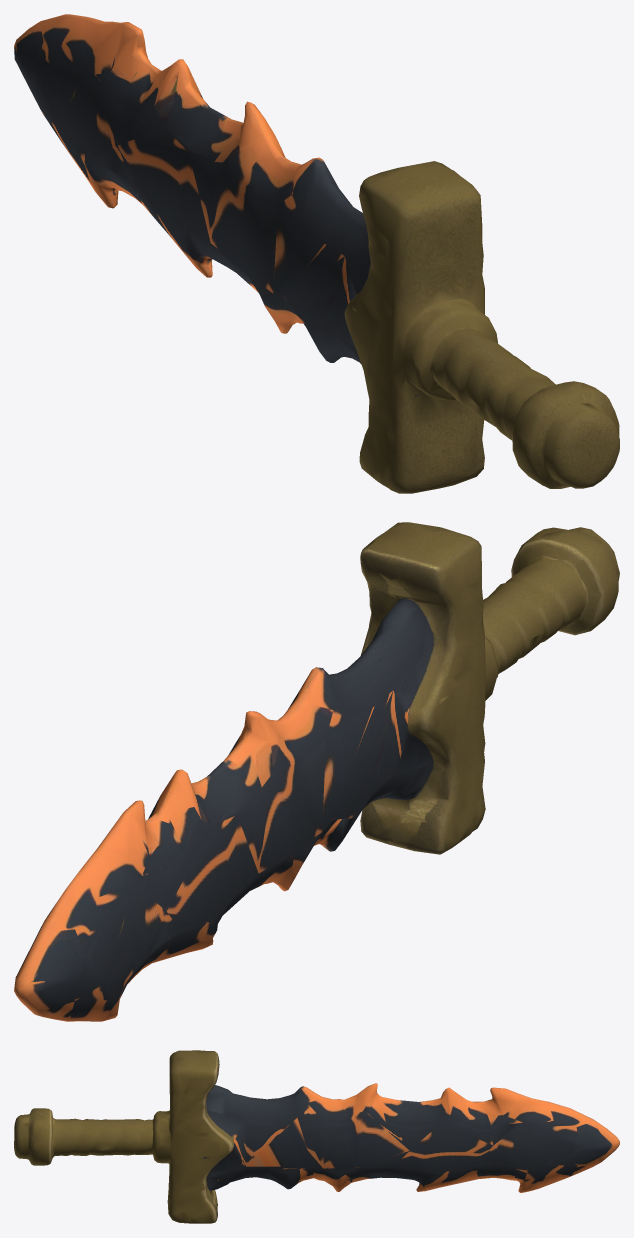
Rendered from DanteSword.glb.
3 views of the same model, one above another, from view 1: azimuth 30°, elevation 25°; view 2: azimuth 150°, elevation 25°; view 3: azimuth 270°, elevation 25° (orthographic). The views are drawn at different scales.
Visible parts, largest first — view 1: DanteSword; view 2: DanteSword; view 3: DanteSword.
Part boxes in pixels (<box>): DanteSword: <box>14,14,619,493</box>; DanteSword: <box>14,522,619,1021</box>; DanteSword: <box>14,1050,619,1223</box>.
Size of the model in its own units: 0.3437 by 1.03 by 3.6.
Materials: 1 (1 with a texture image).
